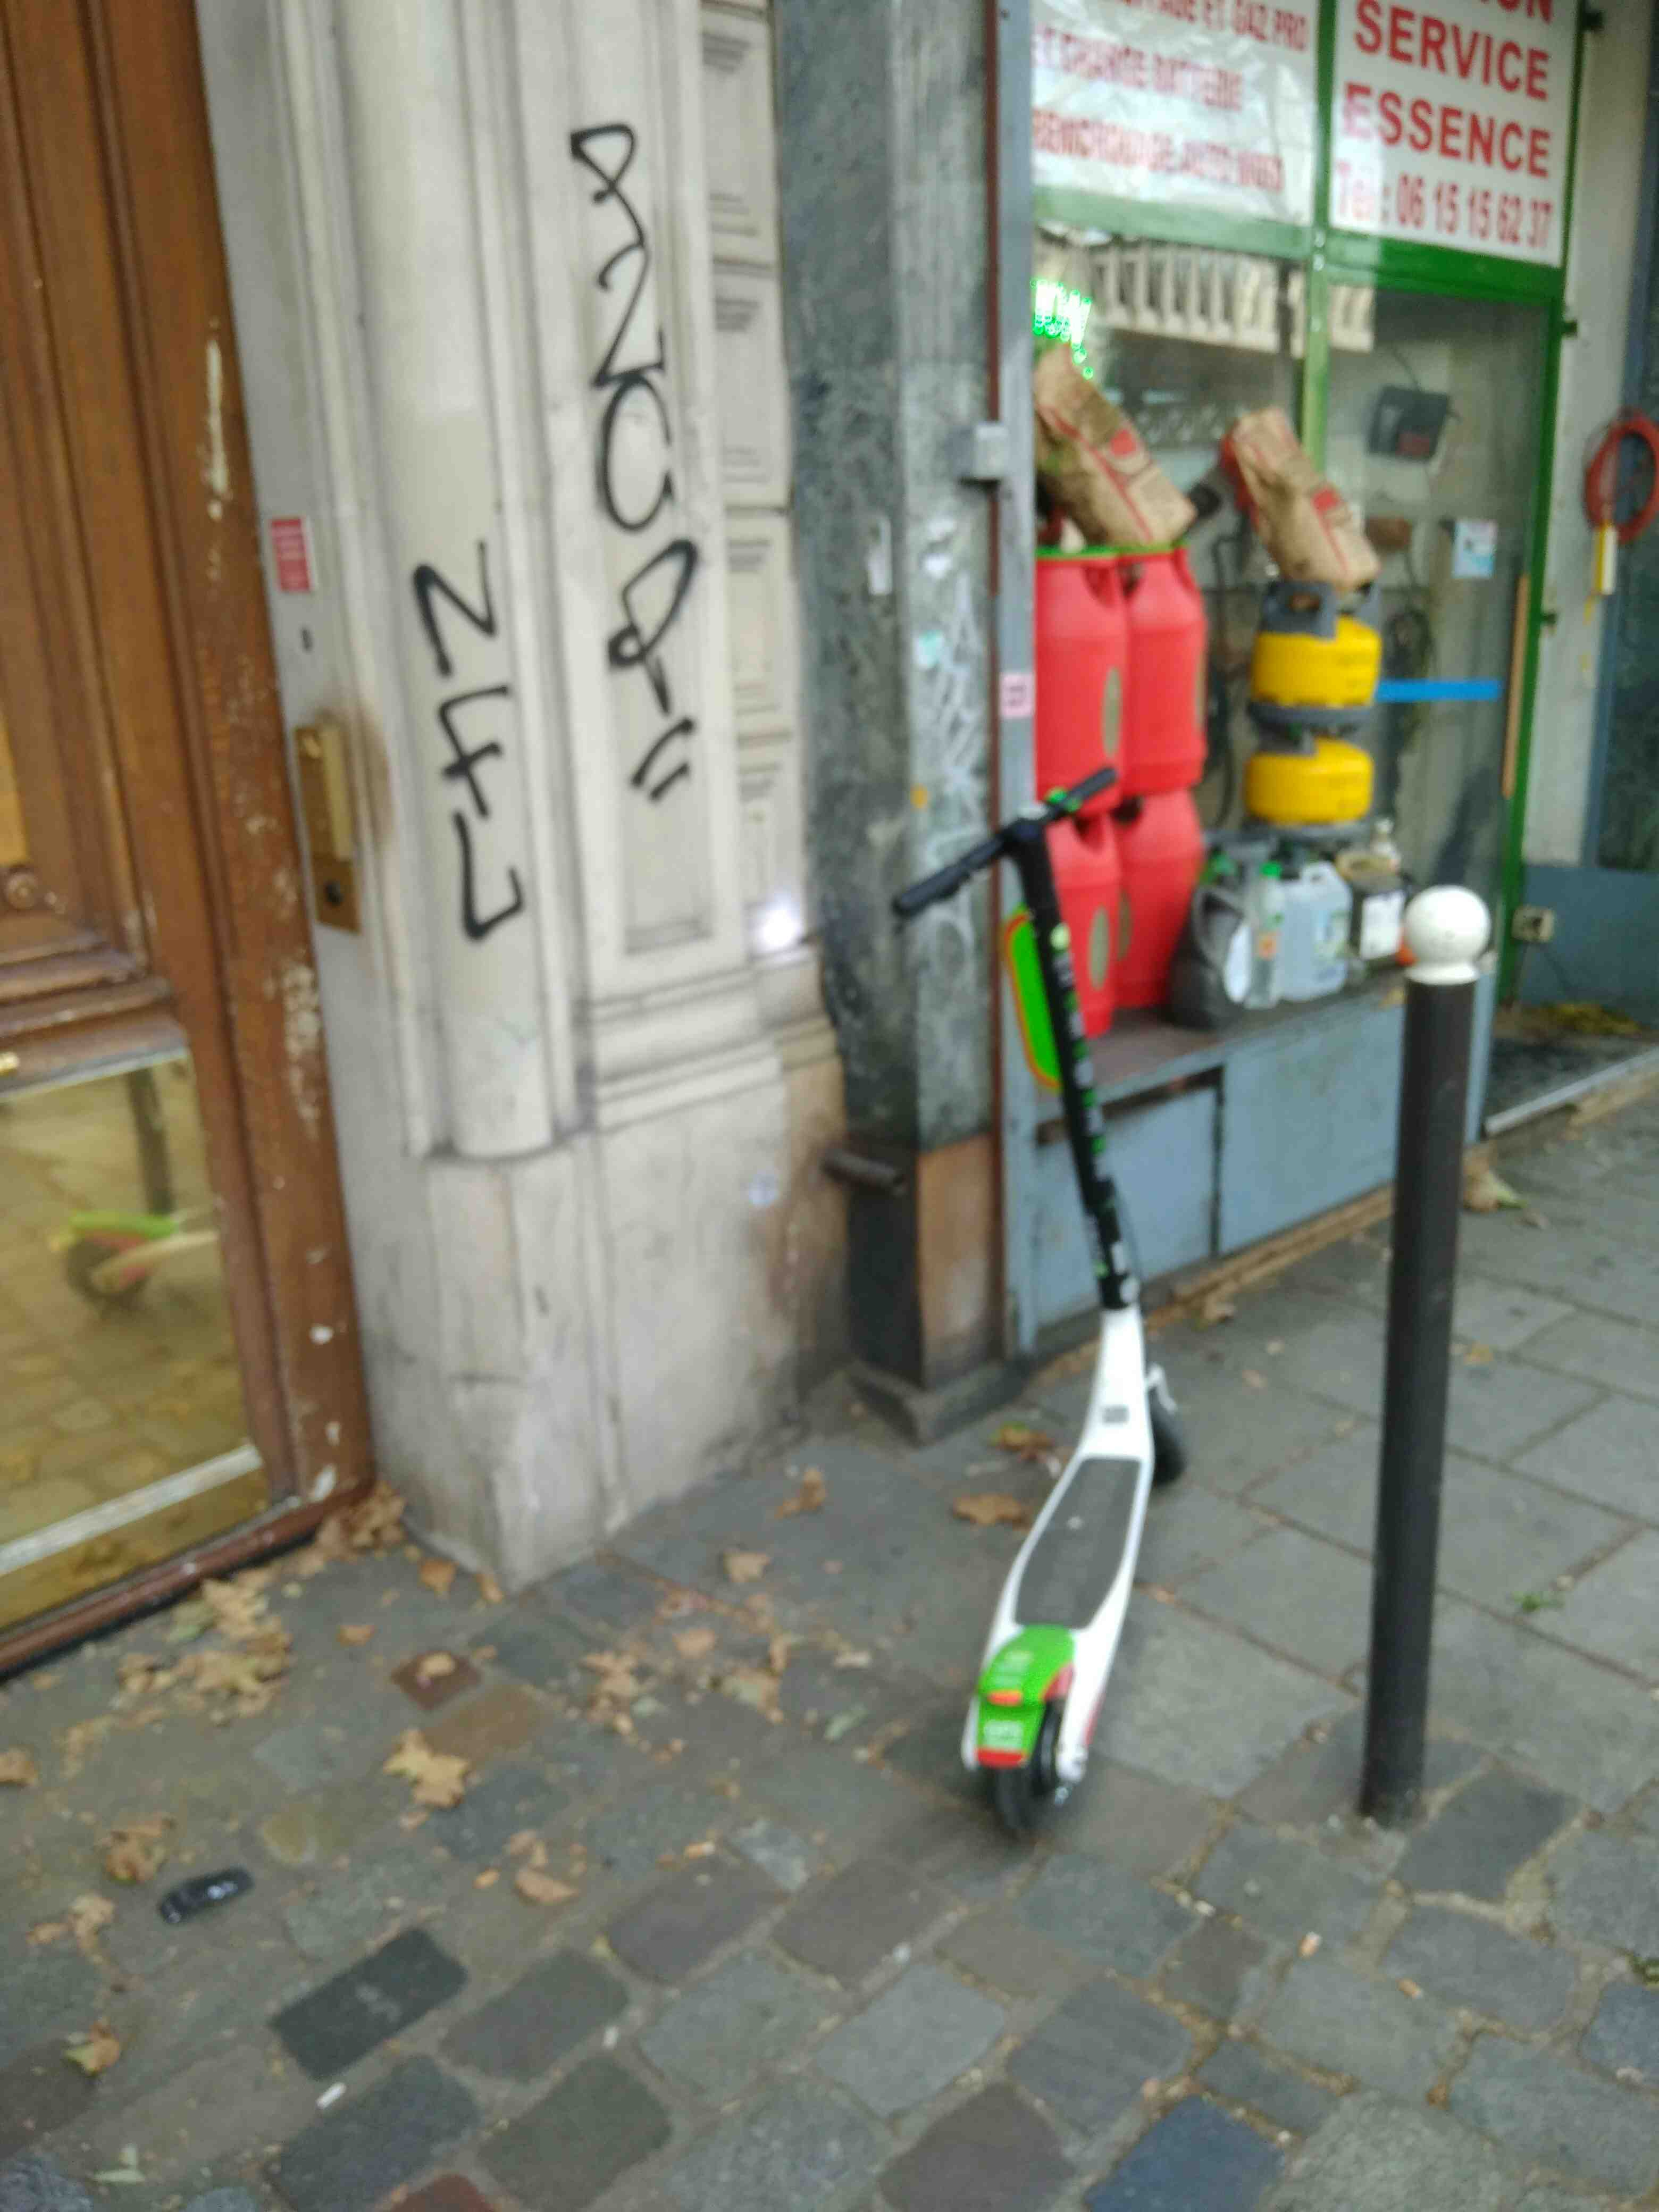scooter: (856, 798, 1236, 1844)
